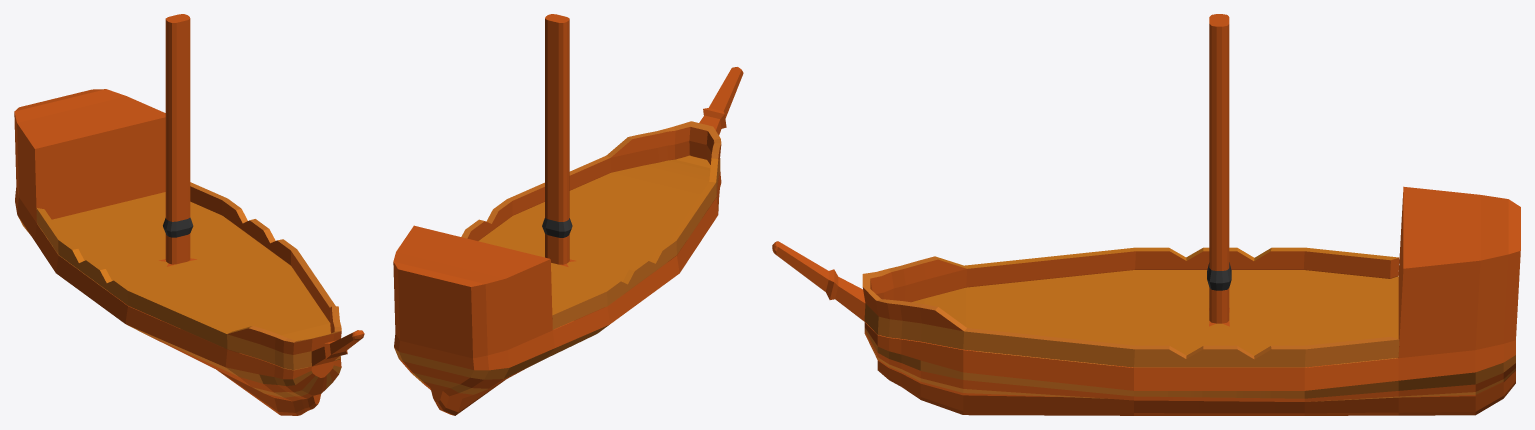
Rendered from Ship.fbx.
3 renders of one model, left to right at view 1: azimuth 30°, elevation 25°; view 2: azimuth 150°, elevation 25°; view 3: azimuth 270°, elevation 25°, orthographic. The views are drawn at different scales.
Parts seen in each view (by area): view 1: Ship, Deck_Base, Deck_Right; view 2: Ship, Deck_Base, Deck_Right; view 3: Ship, Deck_Base, Deck_Right.
Part boxes in pixels (x1,y1,x2,y2): Ship: [14, 14, 364, 415]; Deck_Base: [54, 195, 330, 340]; Deck_Right: [36, 182, 341, 369]; Ship: [393, 14, 743, 415]; Deck_Base: [478, 155, 710, 310]; Deck_Right: [461, 121, 721, 329]; Ship: [772, 14, 1520, 415]; Deck_Base: [912, 270, 1389, 355]; Deck_Right: [862, 247, 1399, 367].
Size of the model in its own units: 1233 by 2156 by 3717.
